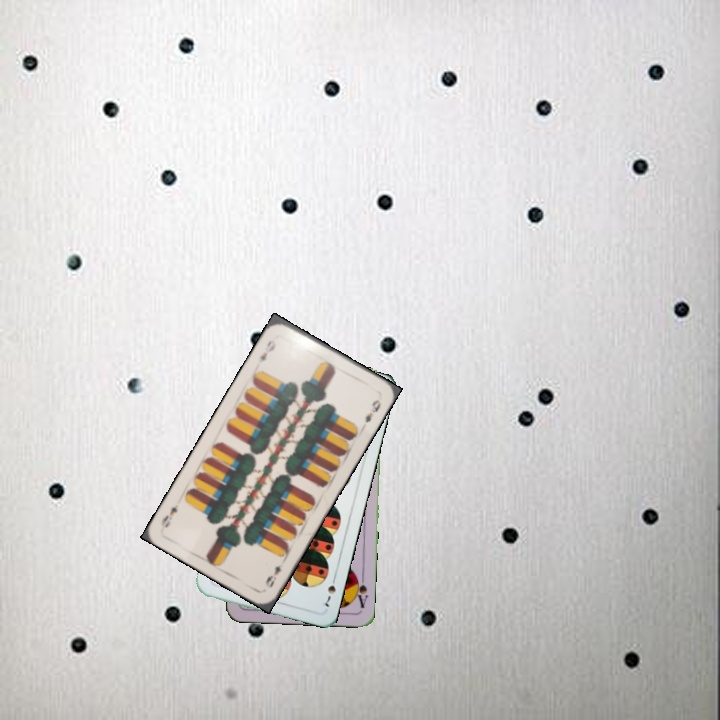E9: (261, 560, 286, 591), (255, 336, 279, 365)
S7: (321, 571, 339, 610)
SA: (351, 570, 371, 611)
